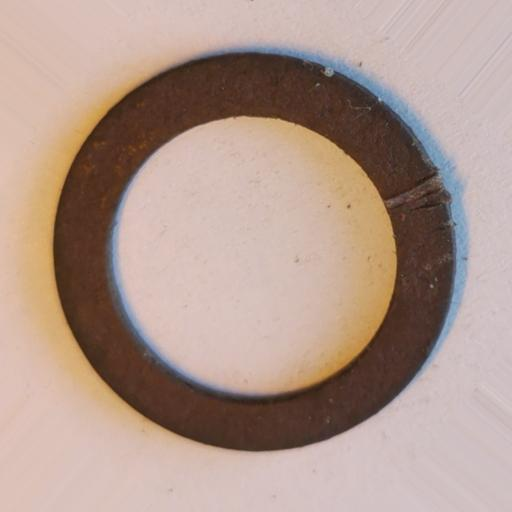defect: (384, 171, 456, 234)
